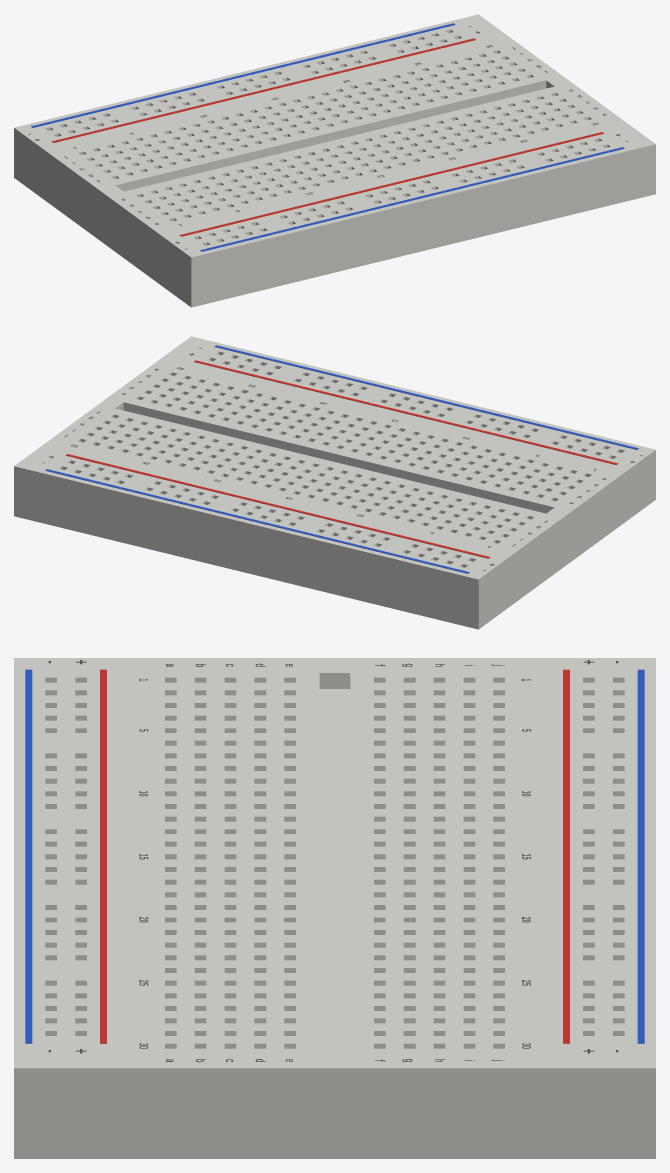
Rendered from breadboard-400.glb.
3 renders of one model, top to bottom at view 1: azimuth 30°, elevation 25°; view 2: azimuth 150°, elevation 25°; view 3: azimuth 270°, elevation 25°, orthographic. The views are drawn at different scales.
Bounding box in the file's own units: 0.0825 × 0.00855 × 0.0546.
